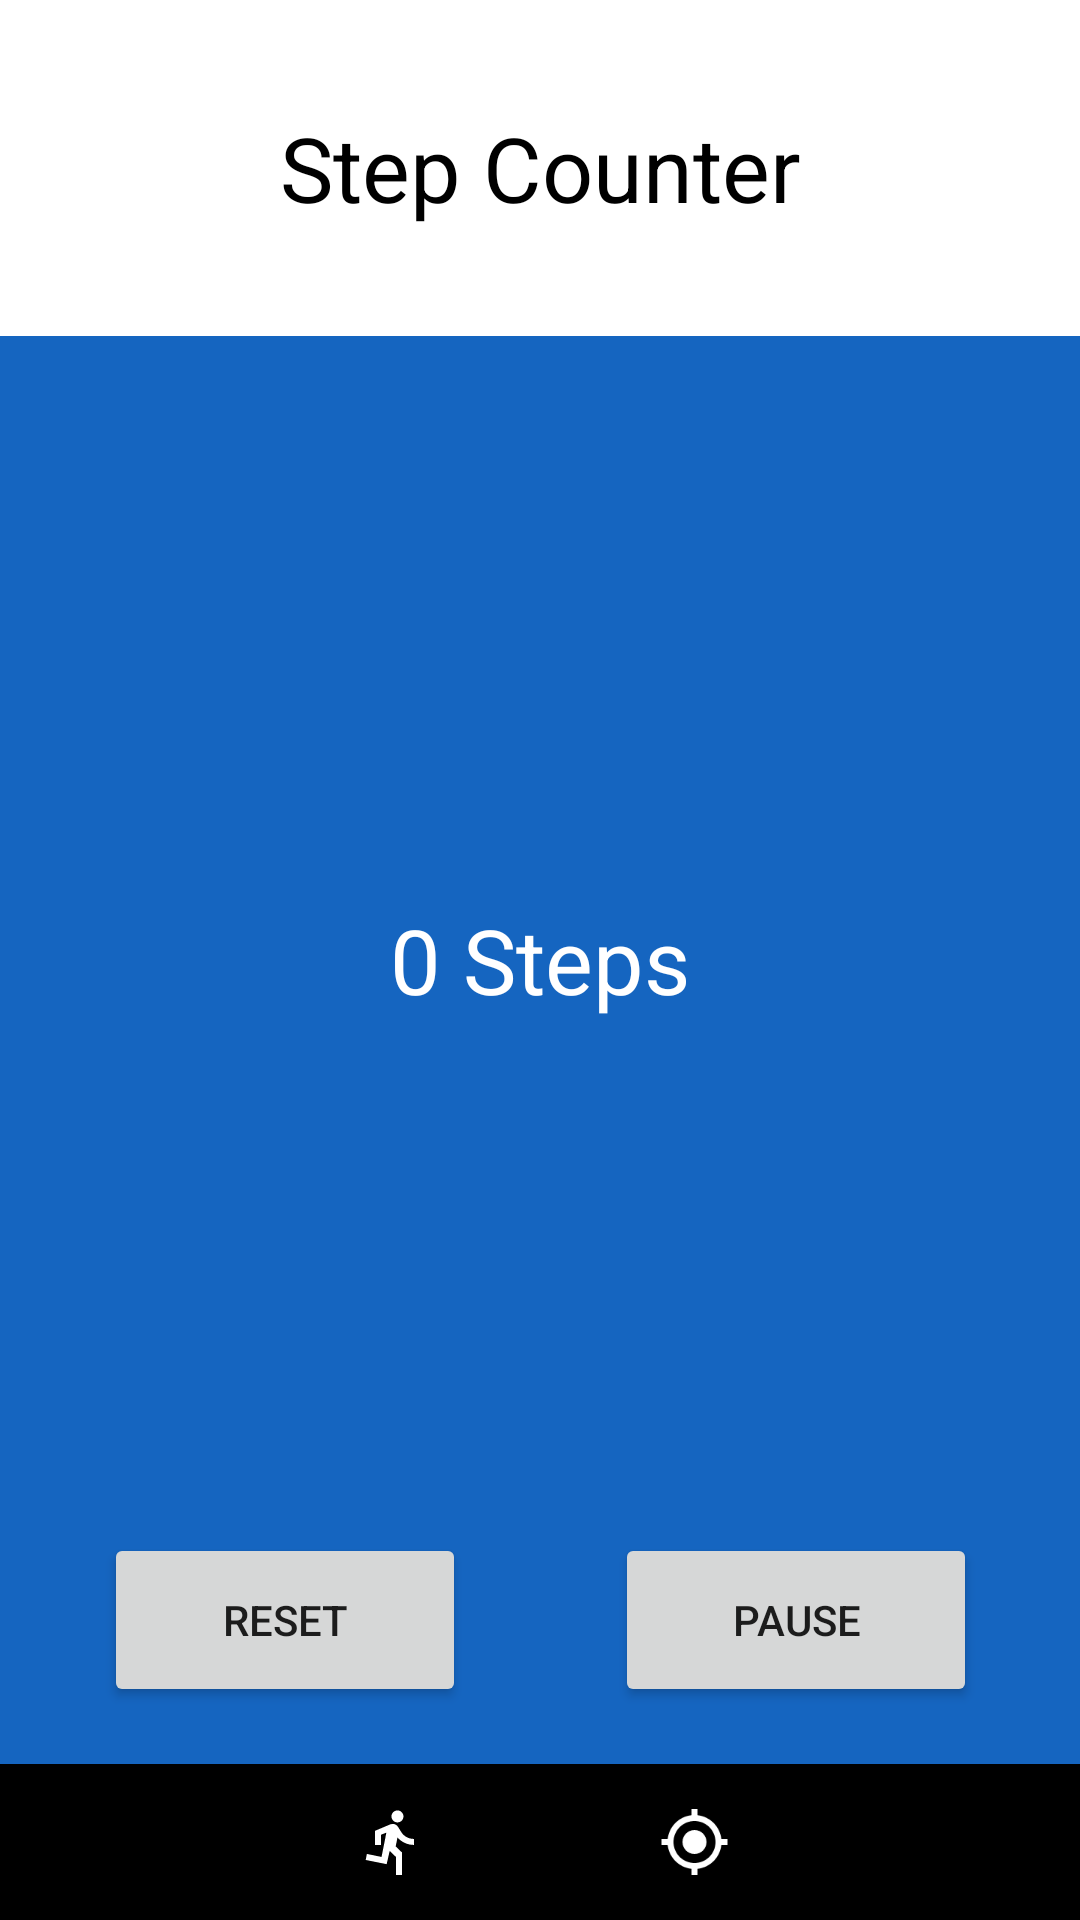

Where to tap for icons on this 1080 x 1920 app screen, as (x,y):
to step counter: (389,1842)
